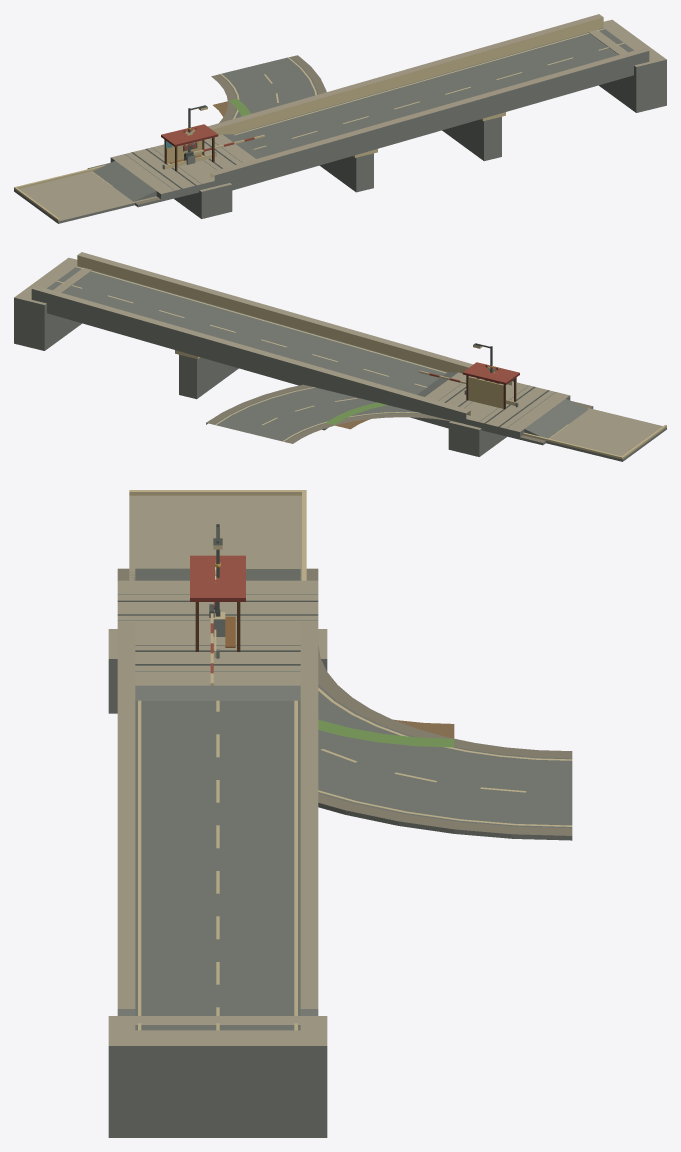
Rendered from riverside-road-kit.glb.
The picture shows the model from 3 angles, top to bottom: view 1: azimuth 30°, elevation 25°; view 2: azimuth 150°, elevation 25°; view 3: azimuth 270°, elevation 25°; orthographic projection. The views are drawn at different scales.
Parts seen in each view (by area): view 1: KIT-RV-road-bridge-river, KIT-RV-road-level-crossing-2track, KIT-RV-road-curve-r12-90, KIT-RV-road-forecourt-parking, KIT-RV-bus-shelter, KIT-RV-farm-track-curve-r8; view 2: KIT-RV-road-bridge-river, KIT-RV-road-curve-r12-90, KIT-RV-road-level-crossing-2track, KIT-RV-road-forecourt-parking, KIT-RV-bus-shelter, KIT-RV-farm-track-curve-r8; view 3: KIT-RV-road-bridge-river, KIT-RV-road-curve-r12-90, KIT-RV-road-level-crossing-2track, KIT-RV-road-forecourt-parking, KIT-RV-bus-shelter, KIT-RV-farm-track-curve-r8.
Boxes of the visible parts, left/top/right/bottom form: KIT-RV-road-bridge-river: left=164, top=14, right=666, bottom=218; KIT-RV-road-level-crossing-2track: left=87, top=134, right=291, bottom=207; KIT-RV-road-curve-r12-90: left=211, top=55, right=326, bottom=122; KIT-RV-road-forecourt-parking: left=14, top=165, right=157, bottom=223; KIT-RV-bus-shelter: left=161, top=124, right=218, bottom=171; KIT-RV-farm-track-curve-r8: left=213, top=98, right=250, bottom=117; KIT-RV-road-bridge-river: left=14, top=252, right=516, bottom=456; KIT-RV-road-curve-r12-90: left=206, top=384, right=463, bottom=443; KIT-RV-road-level-crossing-2track: left=412, top=372, right=593, bottom=445; KIT-RV-road-forecourt-parking: left=523, top=408, right=666, bottom=461; KIT-RV-bus-shelter: left=462, top=362, right=519, bottom=409; KIT-RV-farm-track-curve-r8: left=326, top=402, right=387, bottom=429; KIT-RV-road-bridge-river: left=108, top=622, right=327, bottom=1137; KIT-RV-road-curve-r12-90: left=318, top=645, right=572, bottom=840; KIT-RV-road-level-crossing-2track: left=117, top=568, right=318, bottom=700; KIT-RV-road-forecourt-parking: left=129, top=490, right=306, bottom=580; KIT-RV-bus-shelter: left=190, top=555, right=245, bottom=651; KIT-RV-farm-track-curve-r8: left=318, top=719, right=454, bottom=747.
Bounding box in the file's own units: 47.2 × 7.7 × 15.7.
